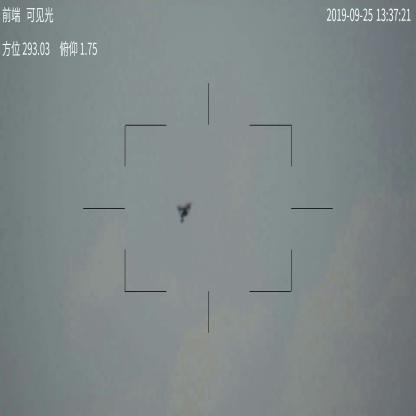uav: (175, 201, 193, 227)
